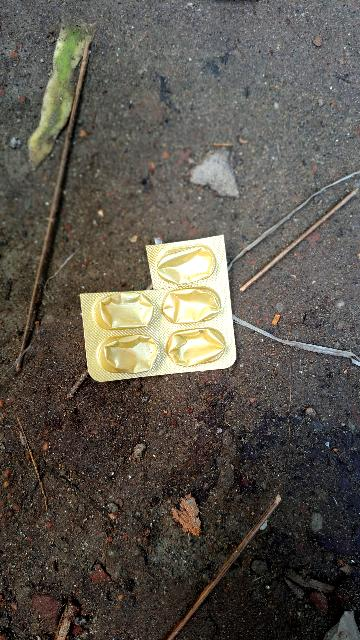medicine: (81, 236, 237, 382)
